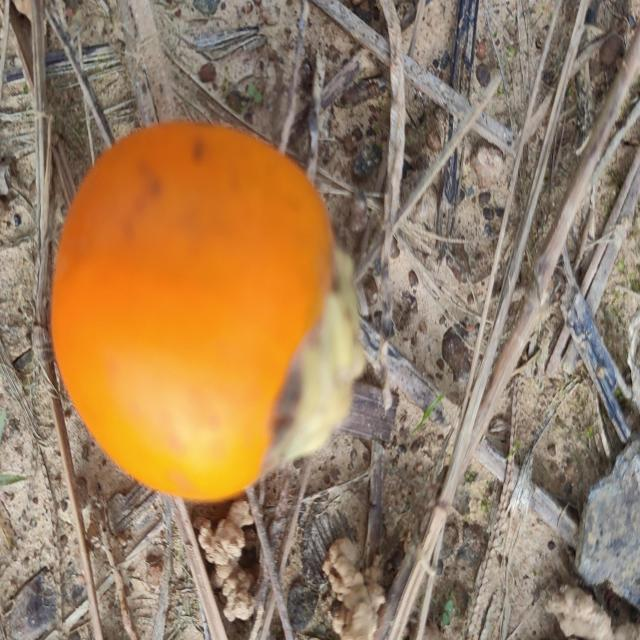good: (48, 121, 365, 506)
